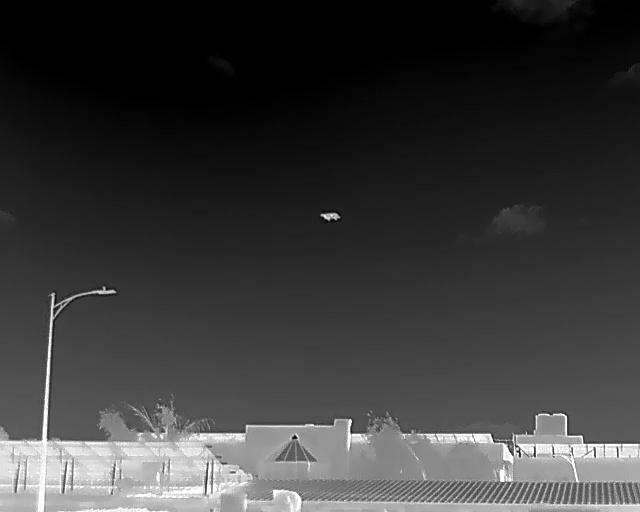fpv-drone: (319, 211, 341, 221)
